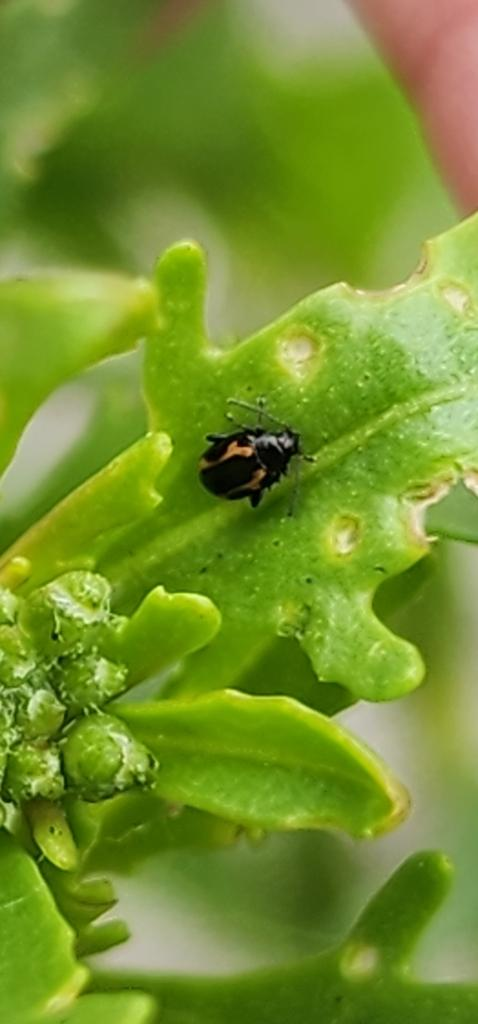flea_beetle: (170, 381, 331, 551)
